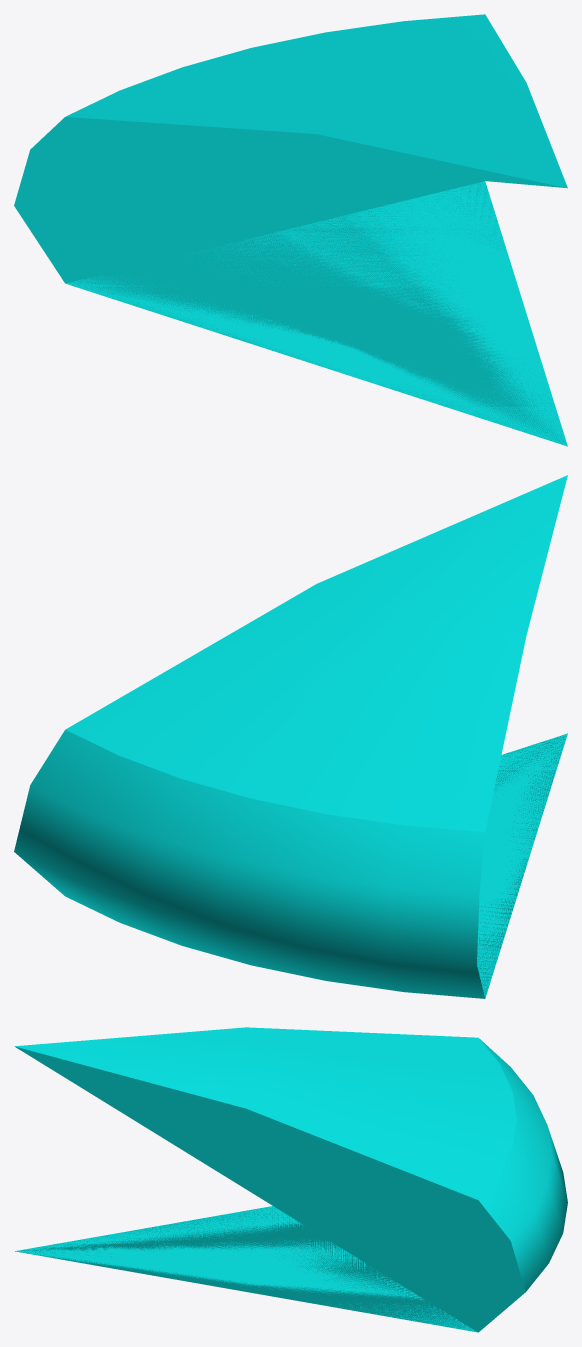
File: body8_5.fbx
The picture shows the model from 3 angles, top to bottom: view 1: azimuth 30°, elevation 25°; view 2: azimuth 150°, elevation 25°; view 3: azimuth 270°, elevation 25°; orthographic projection. The views are drawn at different scales.
Parts seen in each view (by area): view 1: pCylinder244; view 2: pCylinder244; view 3: pCylinder244.
Part boxes in pixels (box(x1,y1,x2,y2)): pCylinder244: box(14, 14, 567, 446); pCylinder244: box(14, 475, 567, 998); pCylinder244: box(14, 1027, 567, 1332).
Size of the model in its own units: 3.42 by 1.82 by 4.47.
